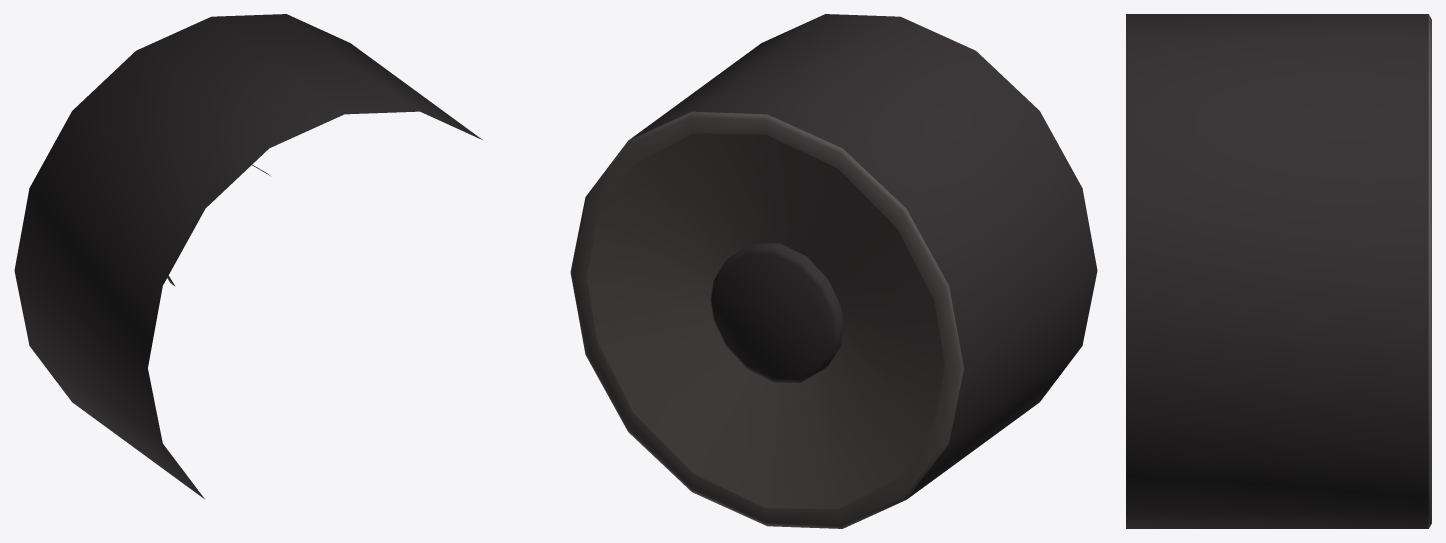
The model's file is Woofer.glb.
The picture shows the model from 3 angles, left to right: view 1: azimuth 30°, elevation 25°; view 2: azimuth 150°, elevation 25°; view 3: azimuth 270°, elevation 25°; orthographic projection. The views are drawn at different scales.
Visible parts, largest first — view 1: woofer; view 2: woofer; view 3: woofer.
Boxes of the visible parts, left/top/right/bottom form: woofer: left=14, top=14, right=482, bottom=499; woofer: left=570, top=14, right=1097, bottom=528; woofer: left=1126, top=14, right=1431, bottom=528.
Bounding box in the file's own units: 2.67 × 2.67 × 1.58.
Materials: 1 (1 with a texture image).
